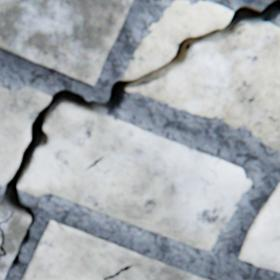brick: (0, 0, 132, 85), (22, 220, 205, 279), (238, 184, 279, 272), (0, 212, 30, 279), (0, 207, 12, 221), (0, 231, 1, 243)
broken_brick: (17, 106, 250, 250), (126, 24, 279, 152), (121, 1, 231, 80), (0, 87, 50, 186)
crack: (0, 0, 279, 279), (103, 264, 132, 279), (84, 156, 103, 170), (0, 228, 7, 256)
